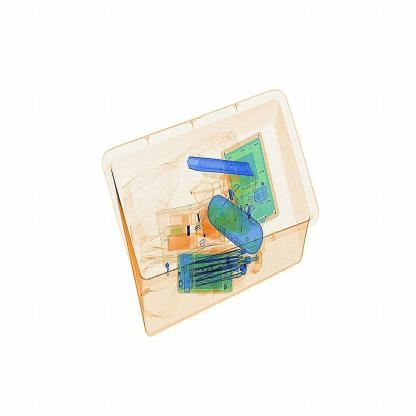pliers: (187, 146, 256, 180)
